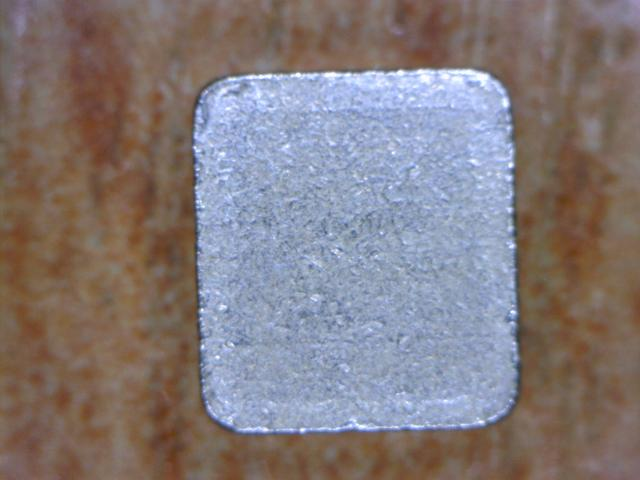ok: (183, 64, 532, 440)
